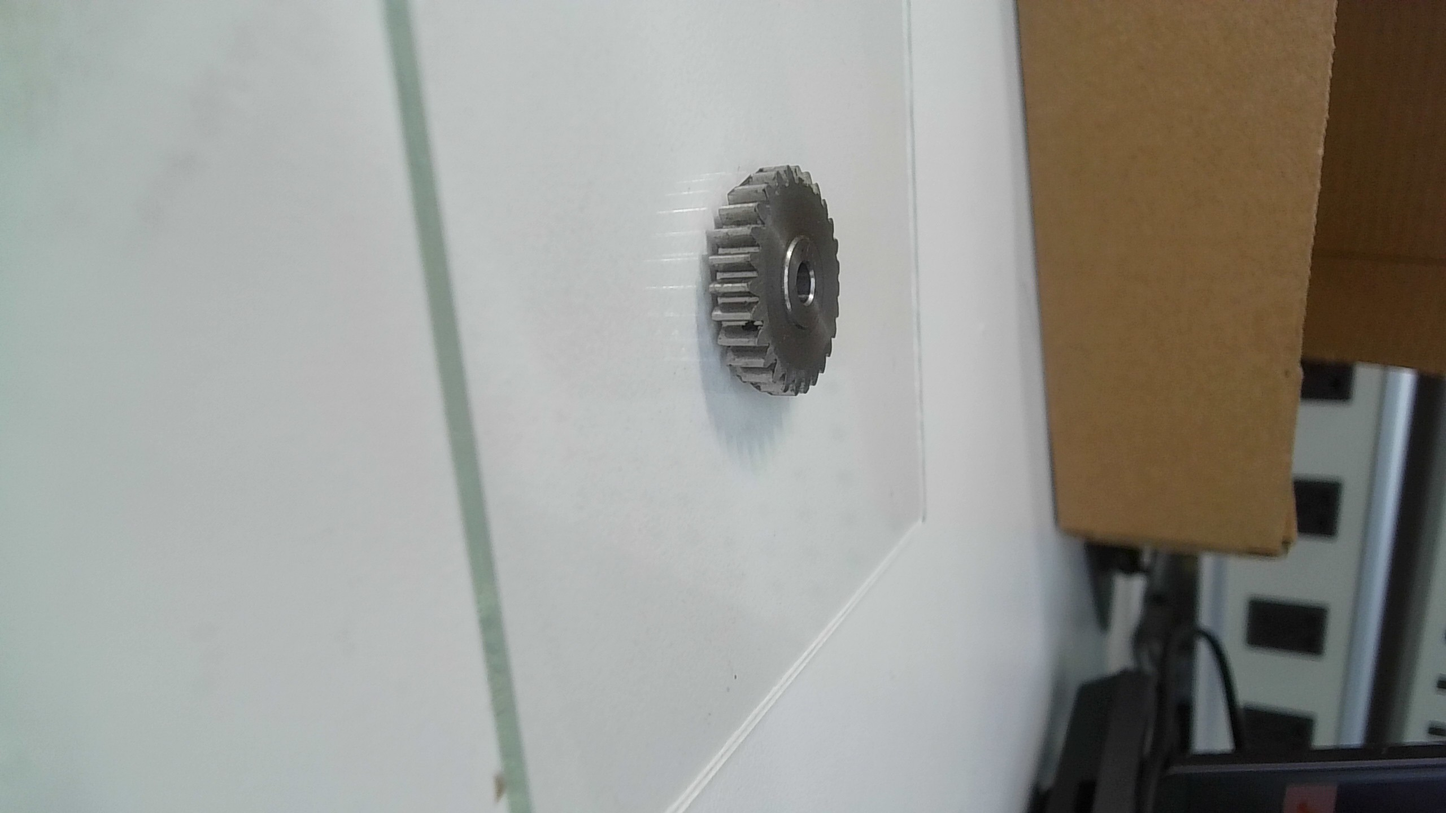gear: (702, 156, 848, 402)
